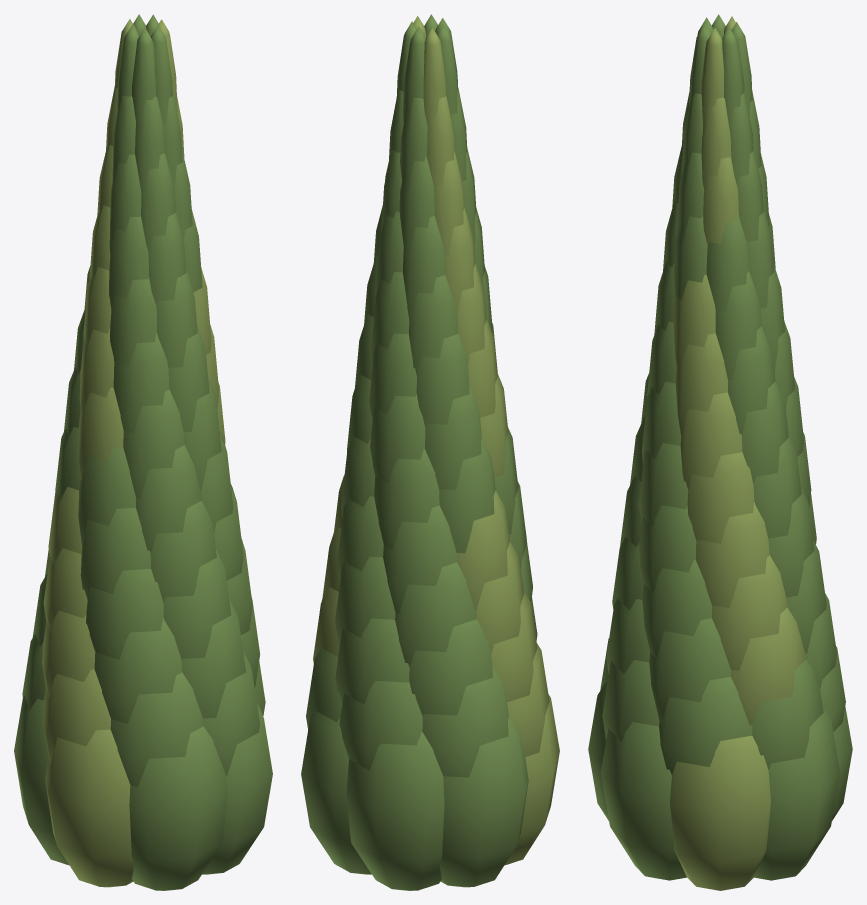
File: cypress-tree.glb
3 views of the same model, side by side, from view 1: azimuth 30°, elevation 25°; view 2: azimuth 150°, elevation 25°; view 3: azimuth 270°, elevation 25° (orthographic).
Visible parts, largest first — view 1: cypress-tree__green, cypress-tree__leaflight; view 2: cypress-tree__green, cypress-tree__leaflight; view 3: cypress-tree__green, cypress-tree__leaflight.
Part boxes in pixels (x1,y1,x2,y2): cypress-tree__green: (14,14,272,890); cypress-tree__leaflight: (42,19,225,887); cypress-tree__green: (301,14,537,890); cypress-tree__leaflight: (313,16,559,865); cypress-tree__green: (588,14,852,880); cypress-tree__leaflight: (670,16,805,890).
Size of the model in its own units: 1.32 by 4.73 by 1.33.
